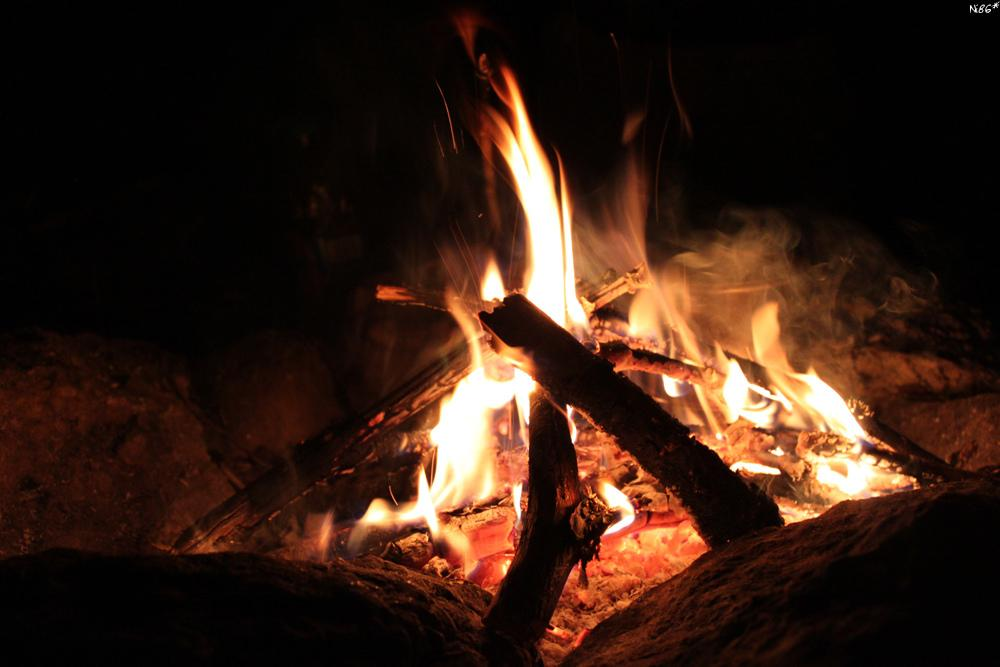fire: (432, 390, 503, 485), (533, 182, 558, 310), (808, 377, 847, 433)
